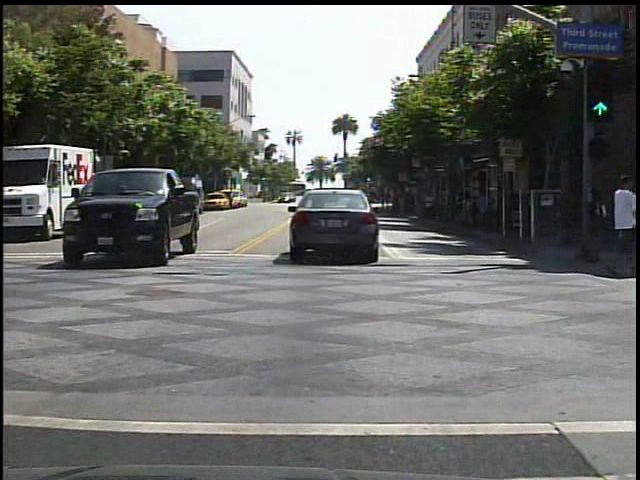person: (610, 164, 639, 271), (586, 176, 611, 265), (420, 189, 439, 224)
